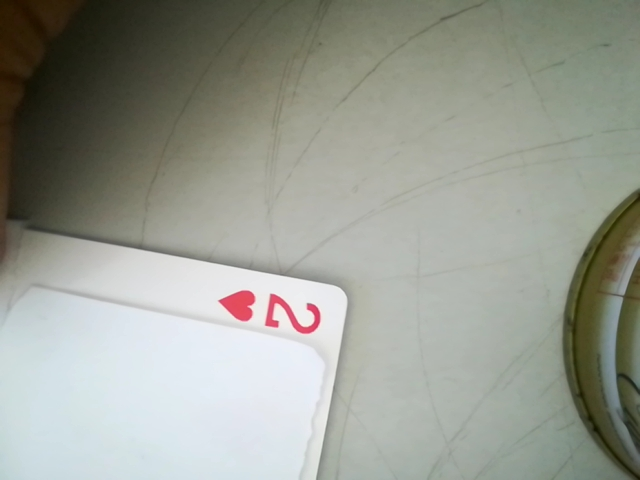hx 2: (211, 283, 341, 343)
